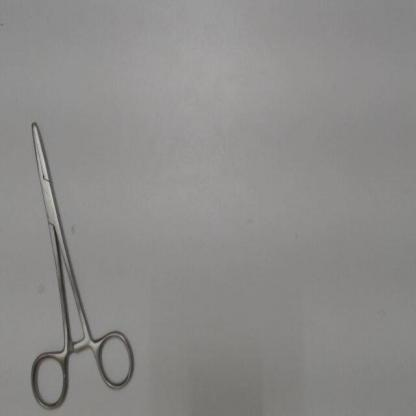Mayo Needle Holder: (26, 113, 139, 413)
